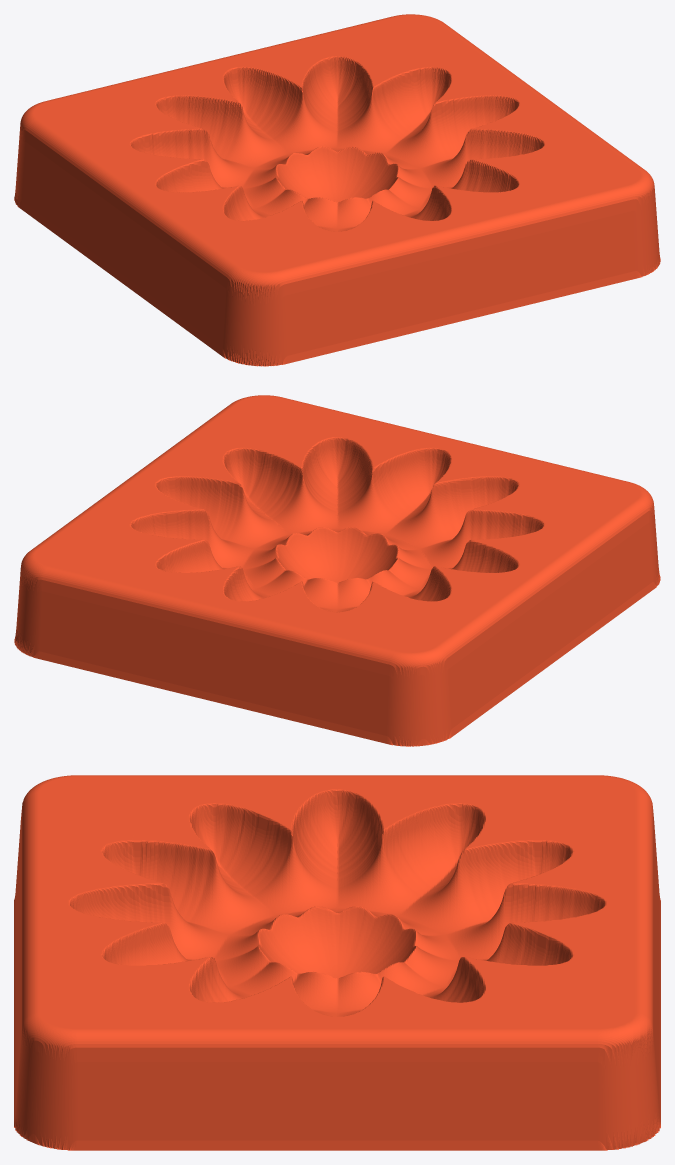
The model's file is mold.glb.
3 views of the same model, one above another, from view 1: azimuth 30°, elevation 25°; view 2: azimuth 150°, elevation 25°; view 3: azimuth 270°, elevation 25° (orthographic). The views are drawn at different scales.
Parts seen in each view (by area): view 1: geometry_0; view 2: geometry_0; view 3: geometry_0.
Boxes of the visible parts, box(x1,y1,x2,y2) form: geometry_0: box(14, 14, 660, 366); geometry_0: box(14, 395, 660, 746); geometry_0: box(14, 775, 660, 1150).
Bounding box in the file's own units: 0.0924 × 0.0175 × 0.0924.
